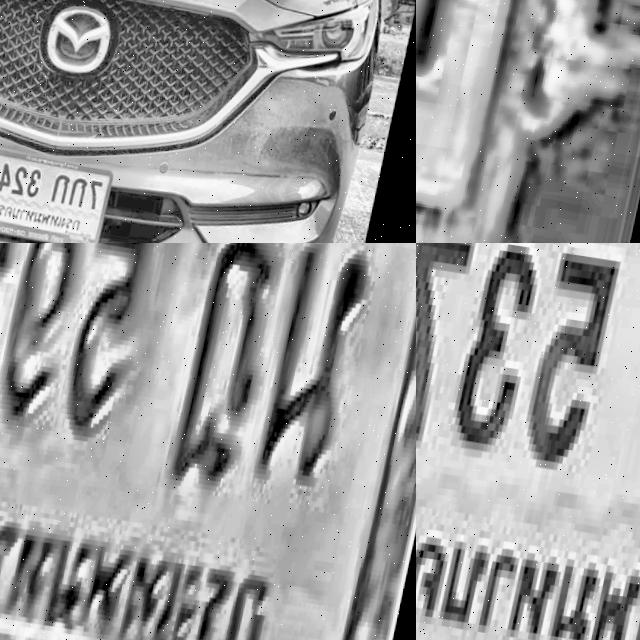license-plate: (0, 243, 416, 640), (416, 243, 640, 640), (416, 0, 605, 243), (0, 146, 121, 243)
